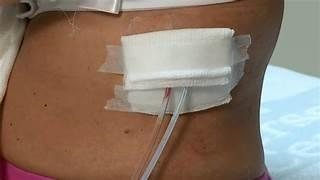cotton: (99, 28, 250, 179), (99, 28, 250, 113), (18, 0, 233, 17), (0, 6, 24, 101), (18, 0, 120, 17)
